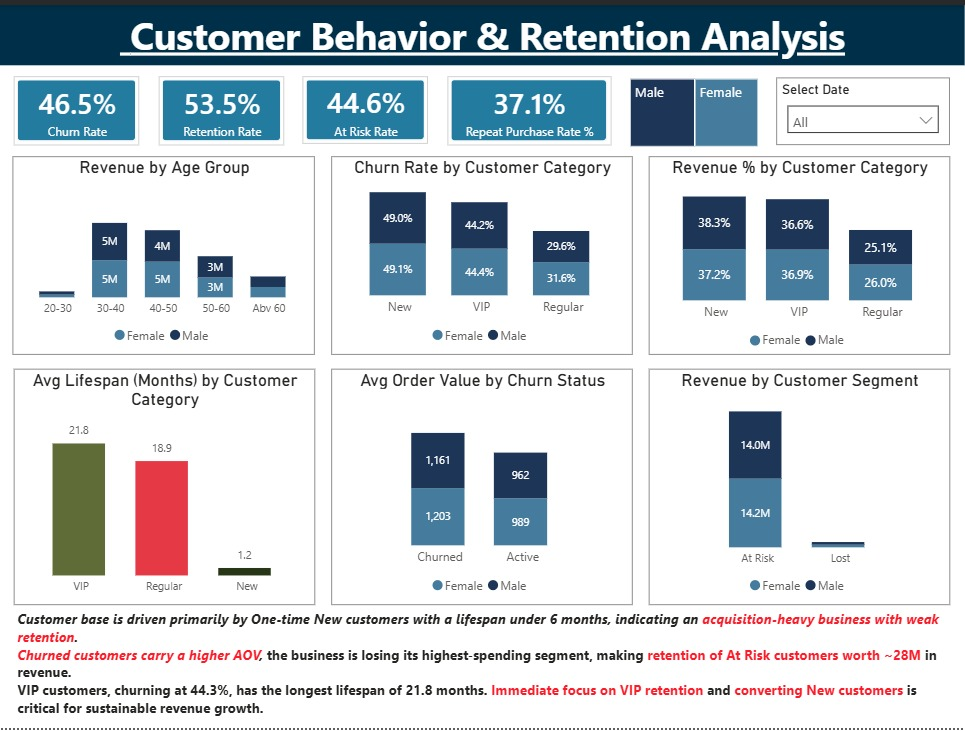

This screenshot's page, from the dashboard's own definition file:
{"tool":"powerbi","page":{"name":"Customer Detailed Dashboard","canvas":[960,720],"ordinal":1},"visuals":[{"type":"textbox","box":[0,0,960.3,59.7],"z":0},{"type":"columnChart","title":"AOV by Churn Status","fields":{"Y":["Customer_Report.AOV"],"Category":["Customer_Report.Churn Flag"],"Series":["Customer_Dashboard.gender"]},"box":[329.6,362.2,299.8,235.1],"z":1000},{"type":"columnChart","title":"Total Orders by Age Group","fields":{"Category":["Customer_Detailed_Report.Customer_Age"],"Series":["Customer_Dashboard.gender"],"Y":["Sum(Customer_Report.Total_Orders)"]},"box":[12.4,150.8,301,197.8],"z":2000},{"type":"columnChart","title":"Churn Rate by Customer Category","fields":{"Category":["Customer_Report.Customer_Category"],"Y":["Customer_Report.Churn Rate"],"Series":["Customer_Dashboard.gender"]},"box":[329.6,150.8,299.8,197.8],"z":3000},{"type":"cardVisual","fields":{"Data":["Customer_Report.Retention Rate"]},"box":[157.4,71.2,125,68.8],"z":4000},{"type":"clusteredColumnChart","title":"Avg Lifespan (Months) by Customer Category","fields":{"Y":["Avg(Customer_Dashboard.Lifespan)"],"Category":["Customer_Detailed_Report.Customer_Category"]},"box":[13.7,362.2,299.8,235.1],"z":5000},{"type":"textbox","box":[12.4,597.1,931.7,123.2],"z":6000},{"type":"cardVisual","fields":{"Data":["Customer_Report.At Risk Rate"]},"box":[301.1,71.2,125,67.5],"z":7000},{"type":"treemap","fields":{"Group":["Customer_Detailed_Report.gender"],"Values":["CountNonNull(Customer_Detailed_Report.customer_key)"]},"box":[626.3,73.8,127.5,67.5],"z":8000},{"type":"columnChart","title":"Revenue % by Customer Category","fields":{"Category":["Customer_Detailed_Report.Customer_Category"],"Y":["Customer_Detailed_Report.Revenue %"],"Series":["Customer_Dashboard.gender"]},"box":[645.6,150.8,299.8,197.8],"z":9000},{"type":"columnChart","title":"Revenue by Customer Segment","fields":{"Category":["Customer_Report.Customer Segment"],"Y":["Sum(Customer_Detailed_Report.Total_Sales)"],"Series":["Customer_Dashboard.gender"]},"box":[645.6,362.2,299.8,235.1],"z":10000},{"type":"slicer","title":"Select Date","fields":{"Values":["Date_Cust_Table.Date.Variation.Date Hierarchy.Year","Date_Cust_Table.Date.Variation.Date Hierarchy.Quarter","Date_Cust_Table.Date.Variation.Date Hierarchy.Month","Date_Cust_Table.Date.Variation.Date Hierarchy.Day"]},"box":[772.5,72.5,172.5,67.5],"z":11000},{"type":"cardVisual","fields":{"Data":["Customer_Report.Churn Rate"]},"box":[13.8,71.2,125,68.8],"z":12000},{"type":"cardVisual","fields":{"Data":["Customer_Report.Repeat Purchase Rate %"]},"box":[444.7,70.9,163,68.4],"z":13000}]}

Visuals, with their boxes in screenshot pixels (x1, y1, x2, y2), scaled from the page's 960x720 canvas onto the 965x731 screenshot:
textbox: 0 0 964 61
"AOV by Churn Status" columnChart: 331 368 633 606
"Total Orders by Age Group" columnChart: 12 153 315 354
"Churn Rate by Customer Category" columnChart: 331 153 633 354
cardVisual - Customer_Report.Retention Rate: 158 72 284 142
"Avg Lifespan (Months) by Customer Category" clusteredColumnChart: 14 368 315 606
textbox: 12 606 949 730
cardVisual - Customer_Report.At Risk Rate: 303 72 428 141
treemap - Customer_Detailed_Report.gender x CountNonNull(Customer_Detailed_Report.customer_key): 630 75 758 143
"Revenue % by Customer Category" columnChart: 649 153 950 354
"Revenue by Customer Segment" columnChart: 649 368 950 606
"Select Date" slicer: 777 74 950 142
cardVisual - Customer_Report.Churn Rate: 14 72 140 142
cardVisual - Customer_Report.Repeat Purchase Rate %: 447 72 611 141
